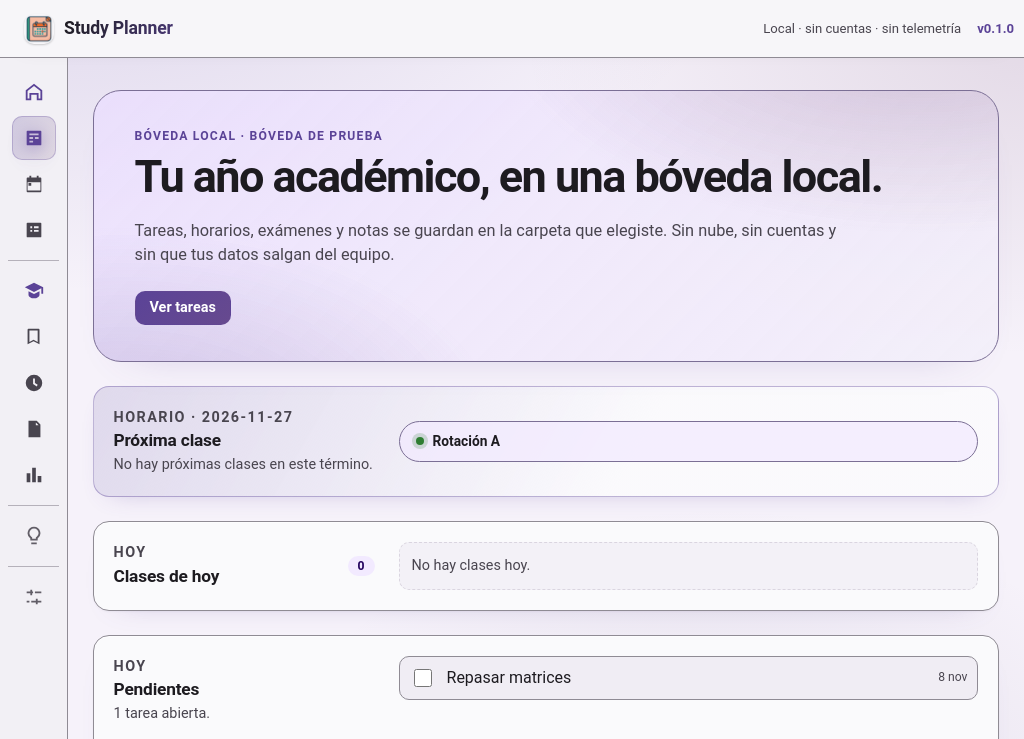
Test: App con IPC de Tauri › permite borrar la rotación guardada del término
What coordinates should you click on to do the following:
click the button named "Horario"
I would click on:
 (34, 383)
Its box is [12,361,56,405].
(page scrolled)
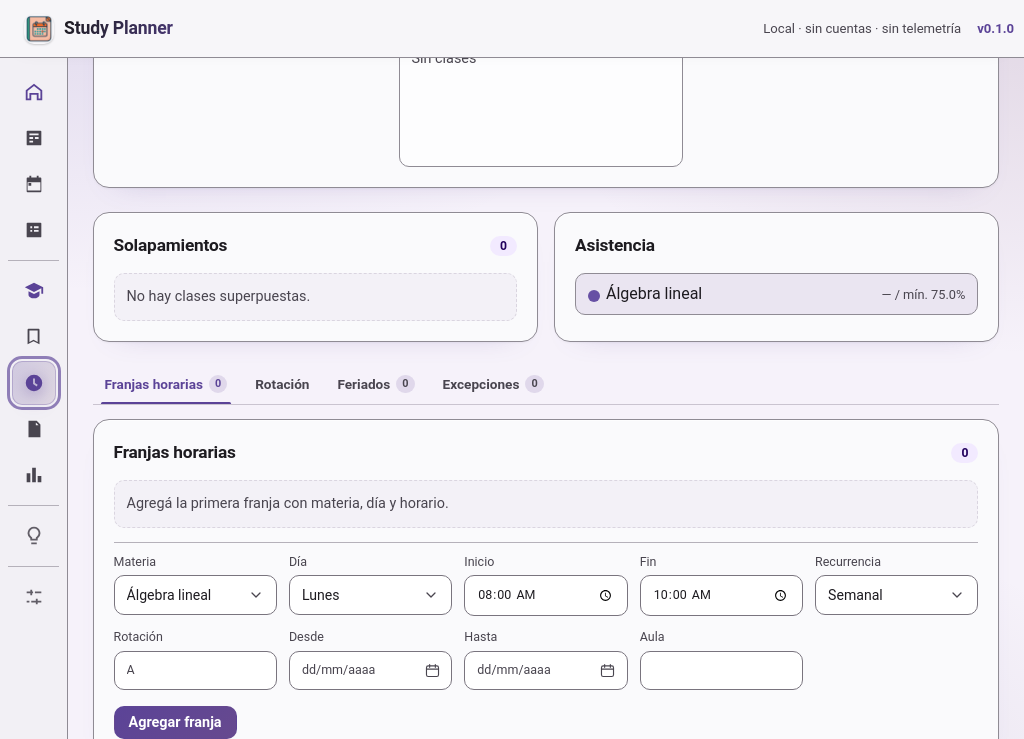
What coordinates should you click on to do the following:
click the tab "Rotación"
I would click on:
 (282, 384)
Its box is [243,366,322,402].
(page scrolled)
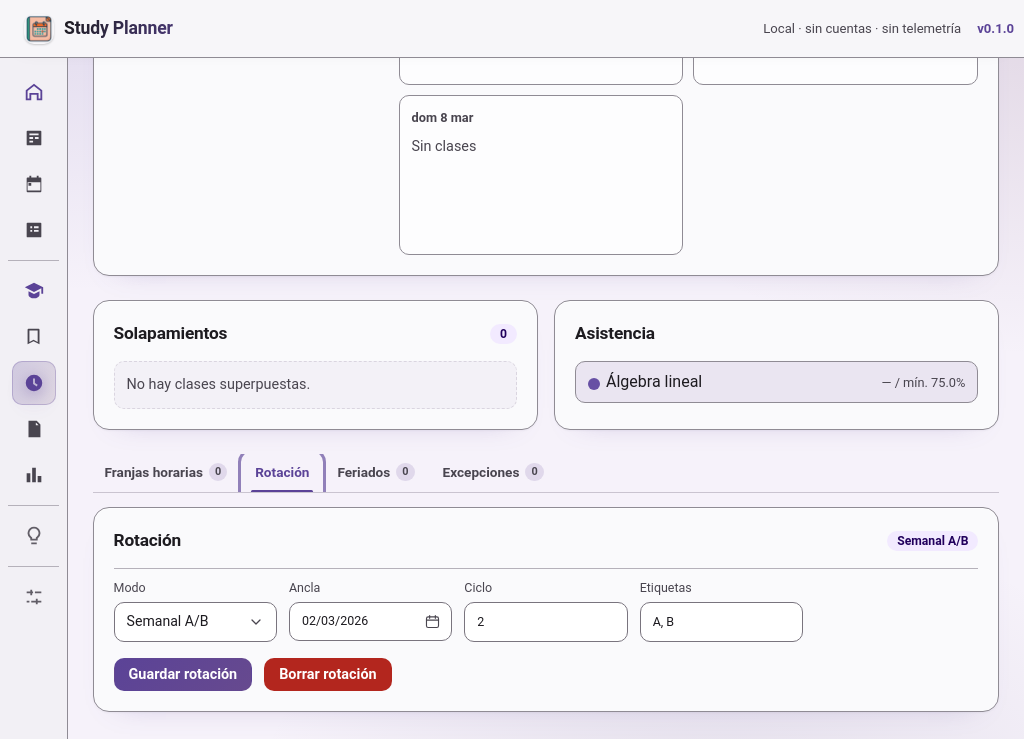
What coordinates should you click on to do the following:
click the button "Borrar rotación"
I would click on:
 (328, 675)
Its box is [264,658,392,691].
(page scrolled)
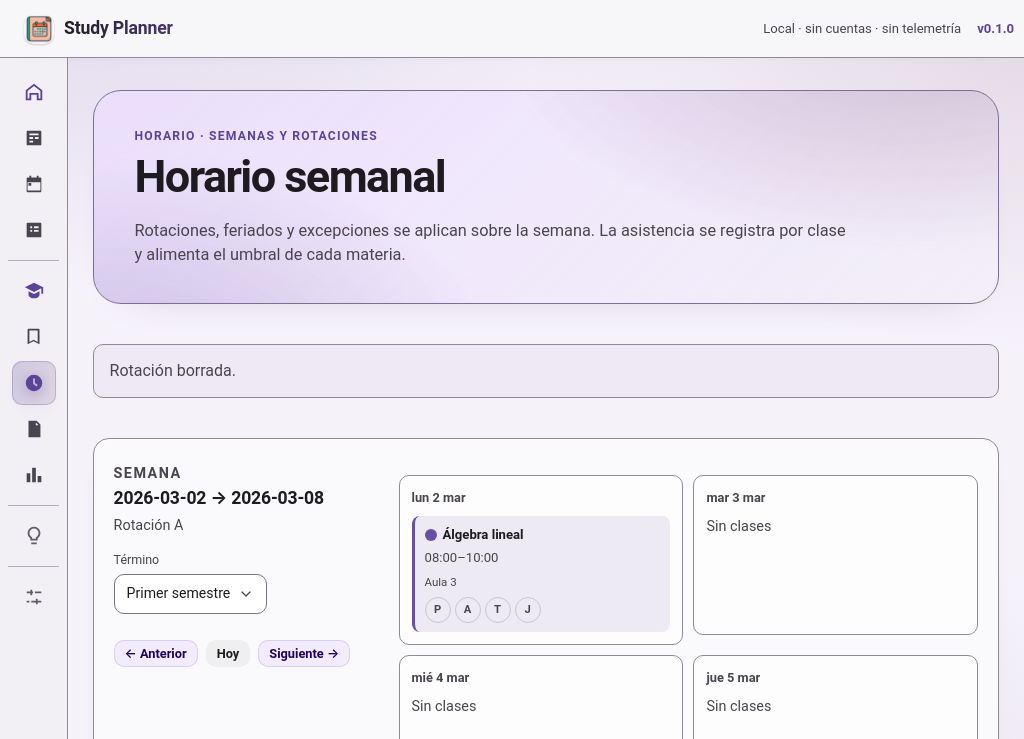
Result: the text "Rotación borrada." is shown at [93,344,1000,398]
